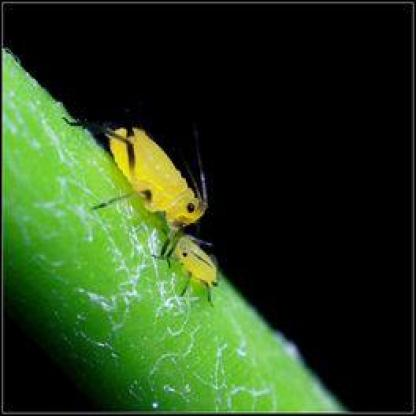aphid: (63, 92, 215, 250), (163, 230, 228, 306)
